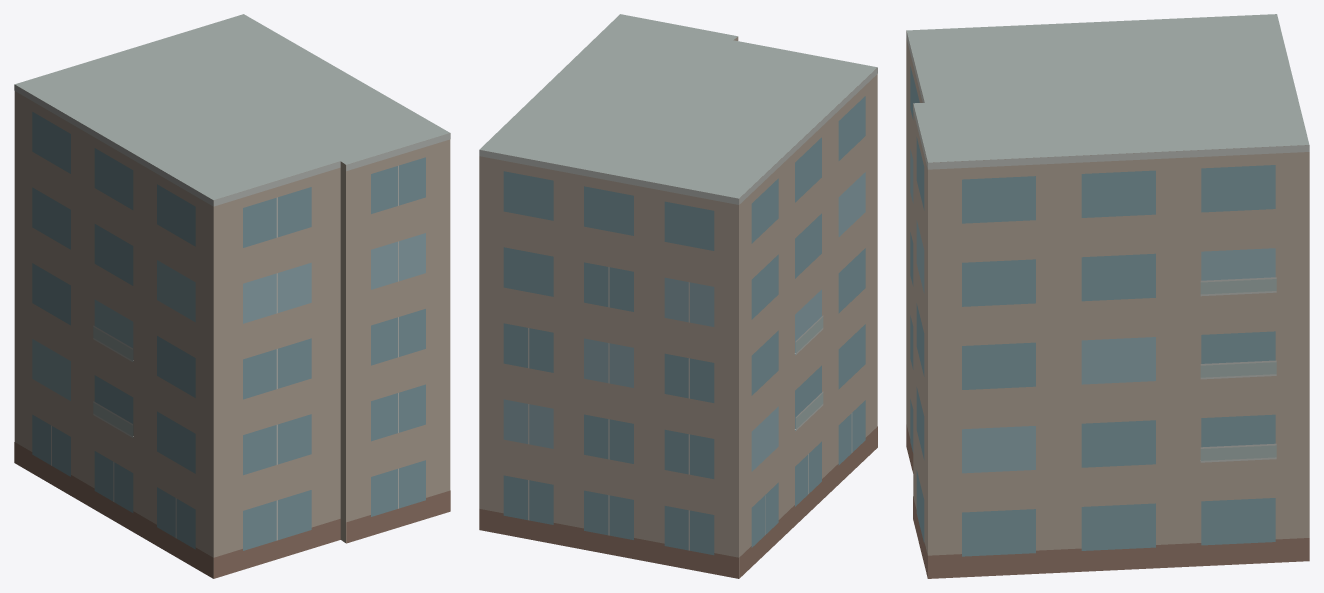
File: survey-upis-33043107.glb
3 renders of one model, left to right at view 1: azimuth 30°, elevation 25°; view 2: azimuth 150°, elevation 25°; view 3: azimuth 270°, elevation 25°, orthographic. The views are drawn at different scales.
Parts seen in each view (by area): view 1: survey-upis-33043107.tmp; view 2: survey-upis-33043107.tmp; view 3: survey-upis-33043107.tmp.
Part boxes in pixels (<box>): survey-upis-33043107.tmp: <box>14,14,450,578</box>; survey-upis-33043107.tmp: <box>479,14,877,578</box>; survey-upis-33043107.tmp: <box>906,14,1309,578</box>.
Size of the model in its own units: 11.08 by 14.45 by 12.69.
